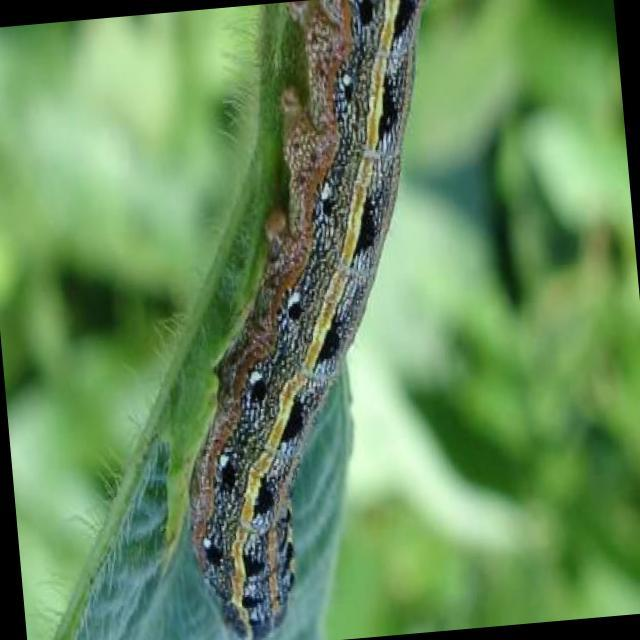Plaga: (142, 1, 491, 640)
